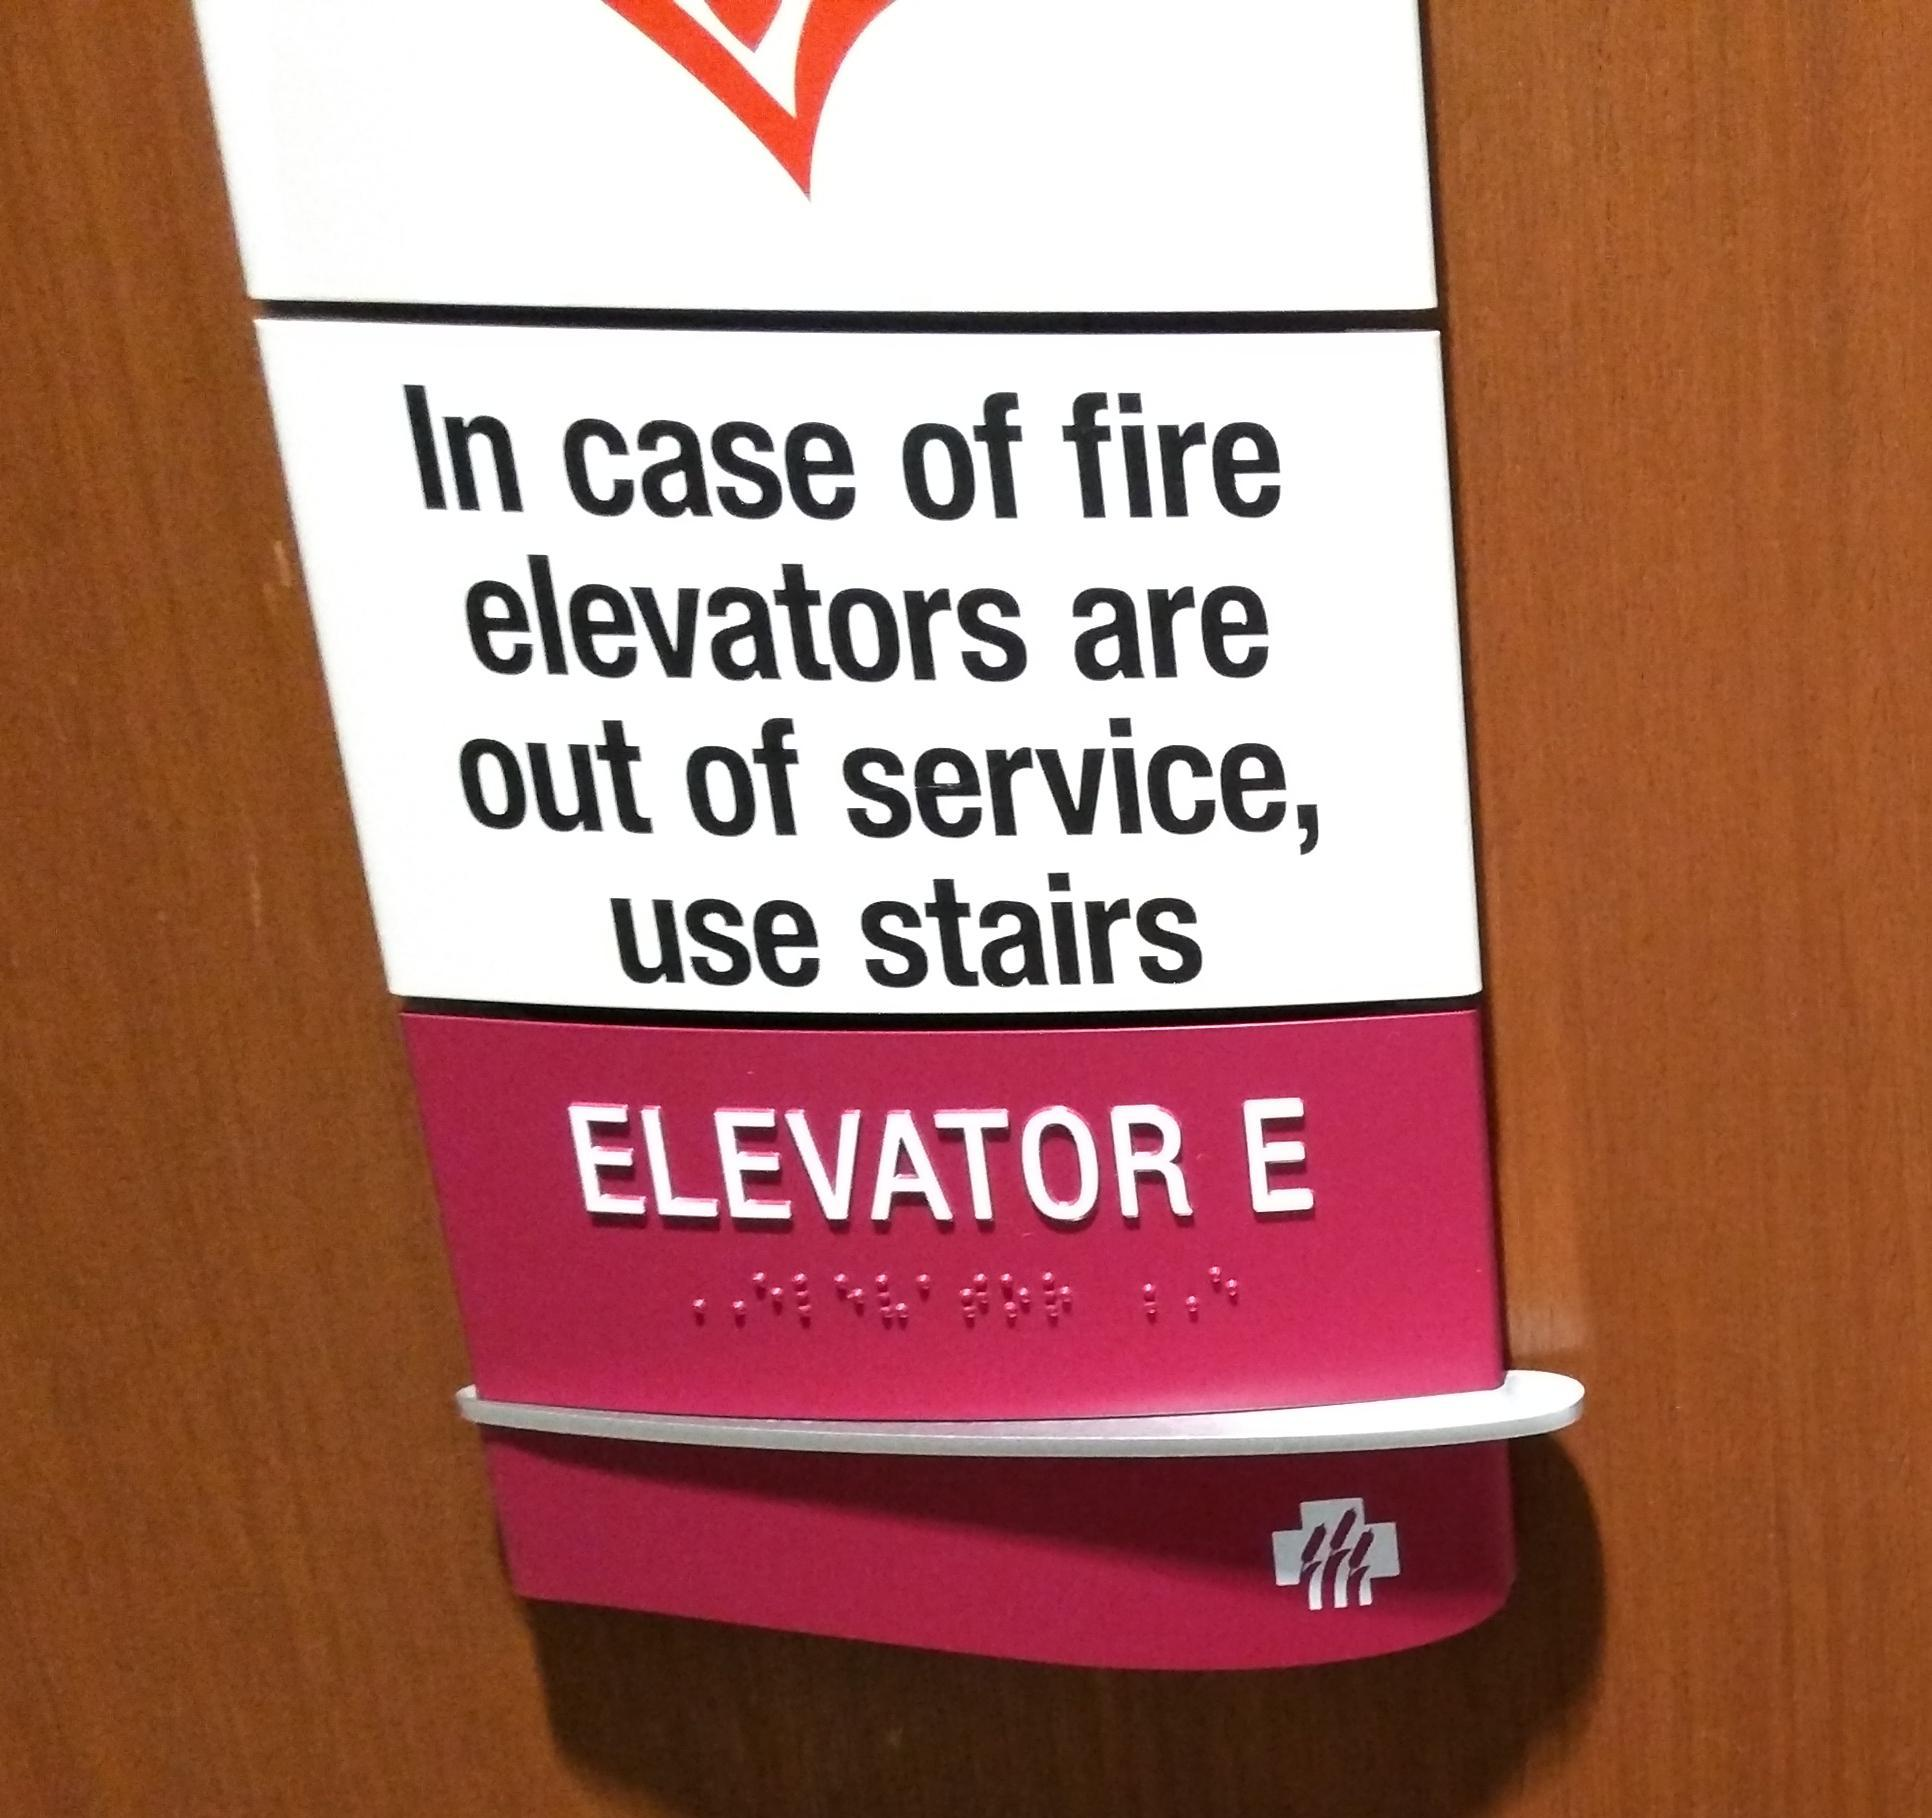sign: (193, 10, 1584, 1673)
